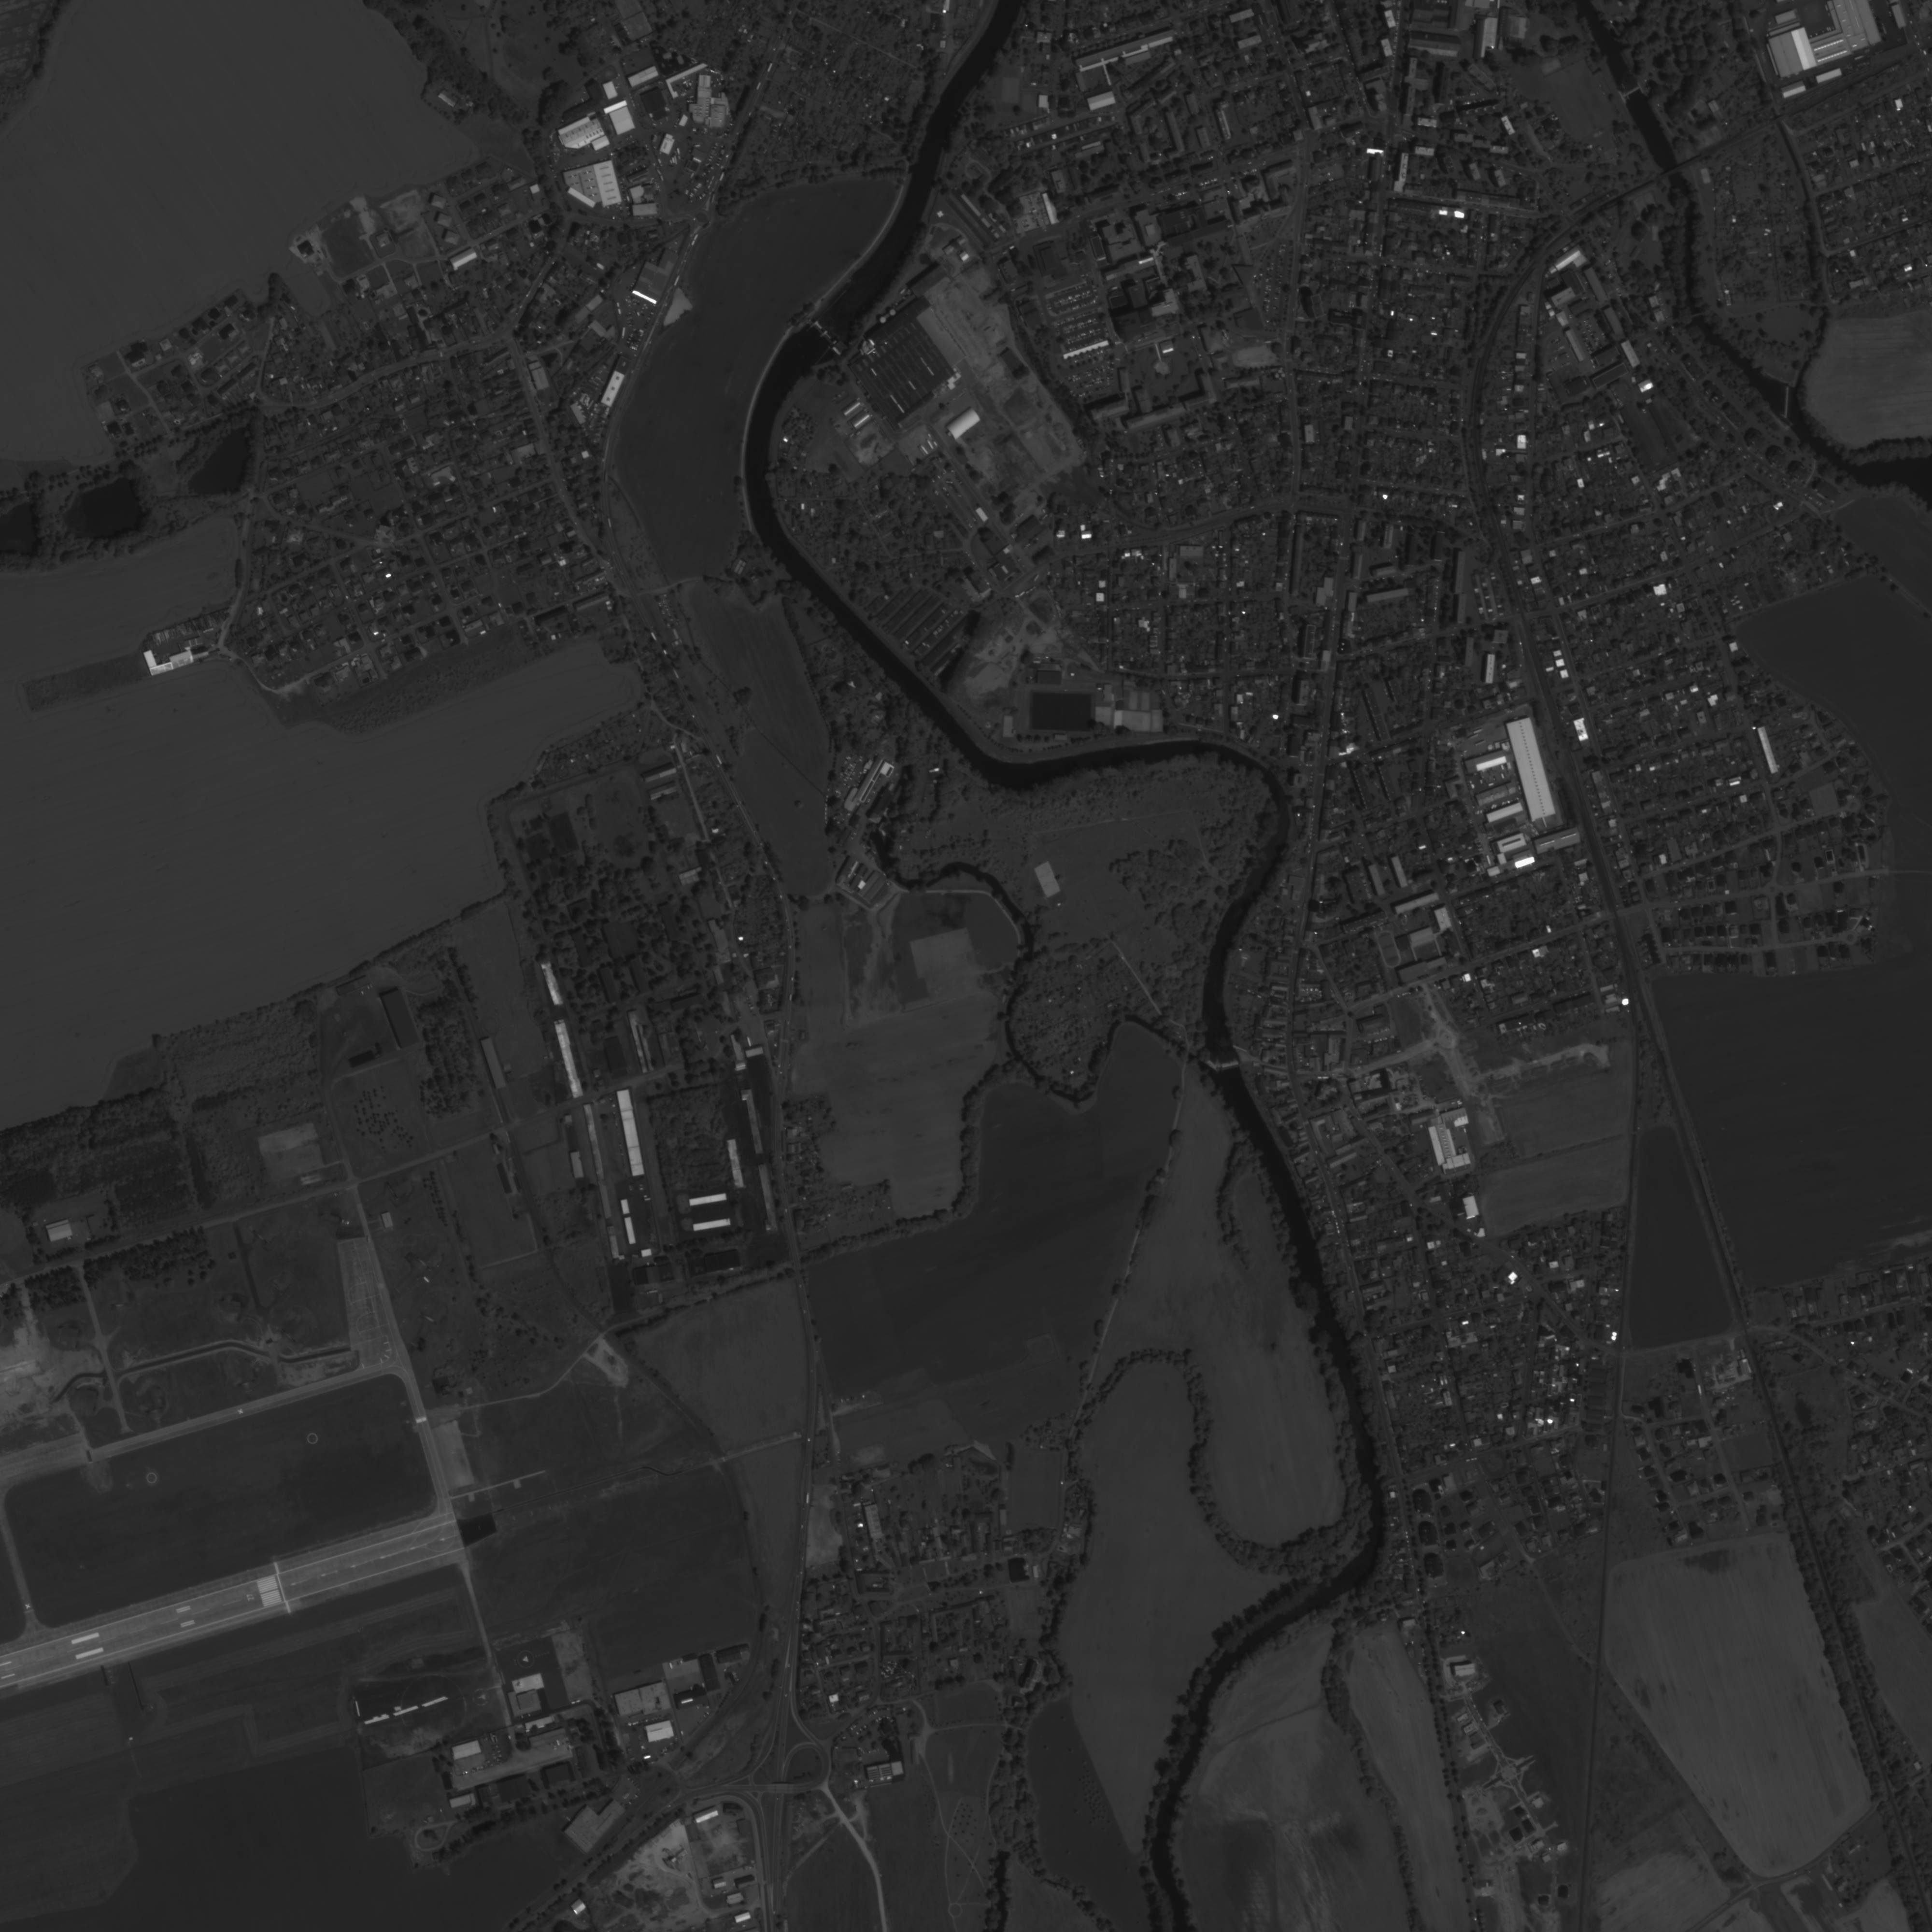bridge: (1661, 163, 1688, 182)
ground track field: (1376, 927, 1403, 971)
roundabout: (1435, 1028, 1458, 1051), (694, 211, 709, 225)
